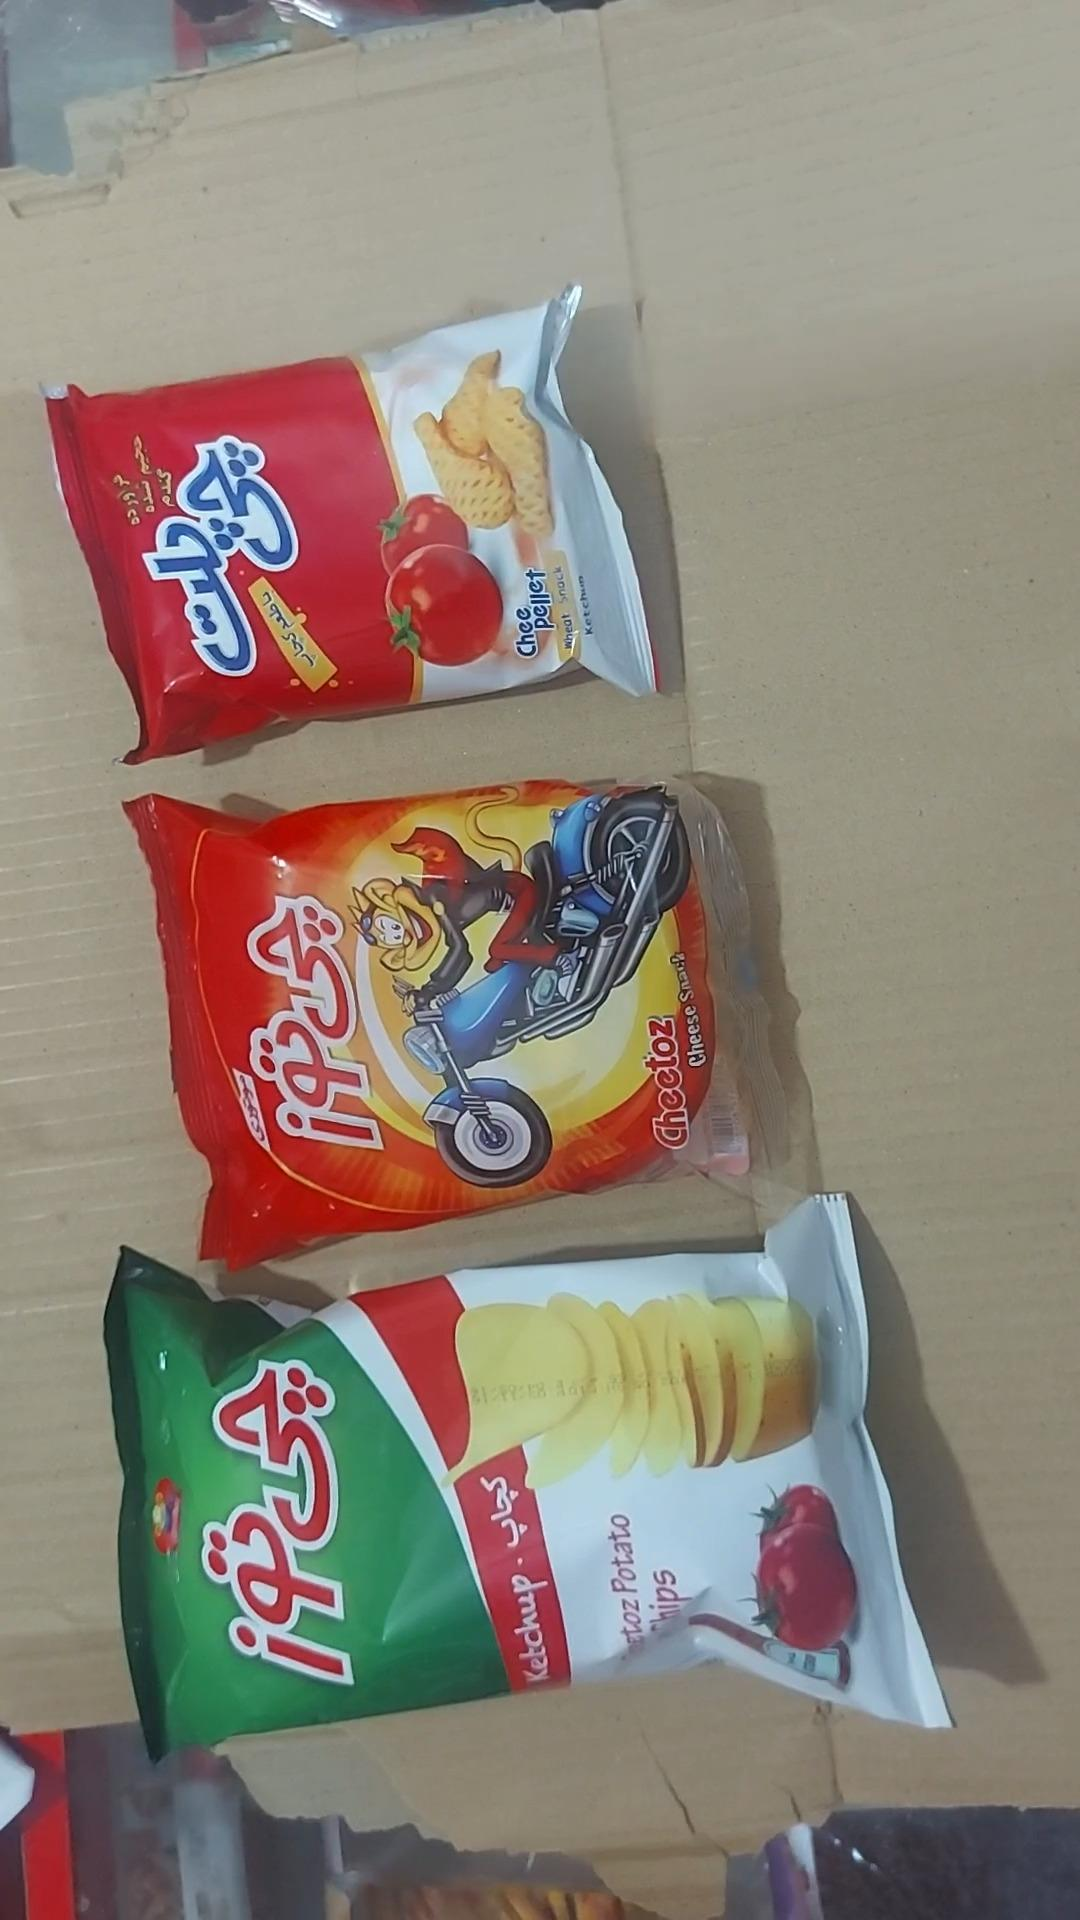Chee pellet ketchup: (44, 285, 659, 764)
Cheetoz ketchup chips: (105, 1196, 948, 1755)
Cheetoz snack 30g: (124, 781, 789, 1269)
